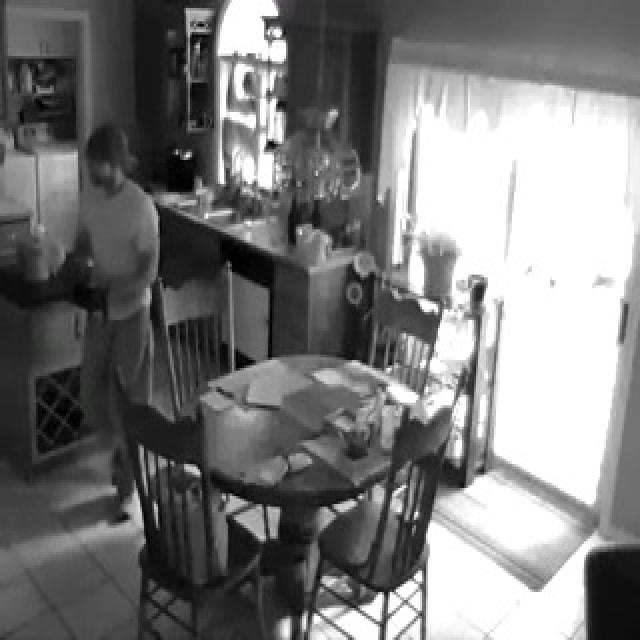thief: (55, 131, 176, 255)
